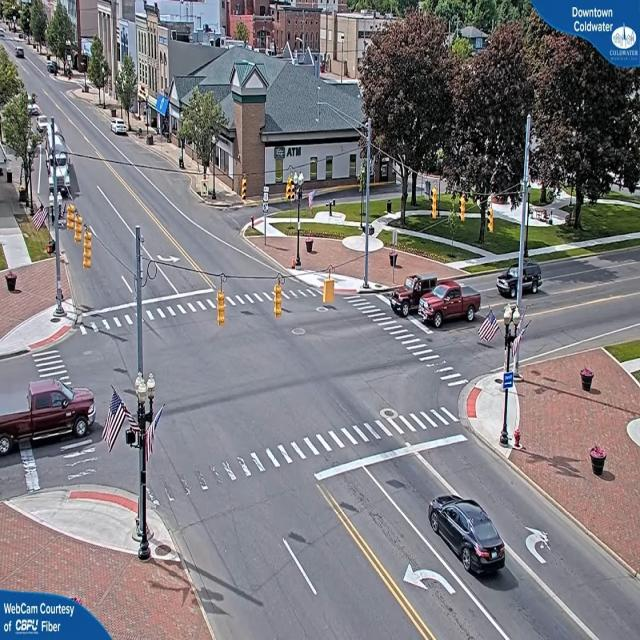car: (0, 371, 94, 449), (427, 498, 507, 580), (416, 280, 481, 328), (387, 274, 428, 314), (497, 265, 542, 295), (112, 120, 129, 136), (16, 48, 26, 61)
truck: (46, 126, 71, 197)
